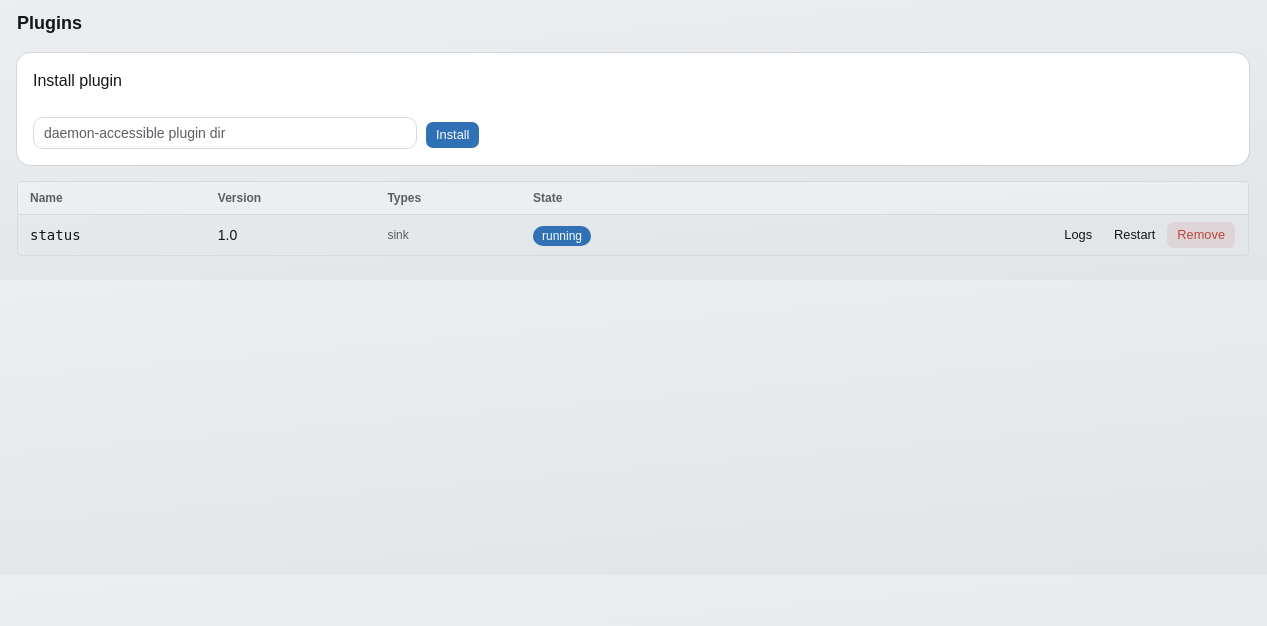
lists plugins and fetches logs on demand
Expected: the text "status" is shown, [18,214,206,255]
Click the button "Logs": (1078, 235) [1053,221,1103,249]
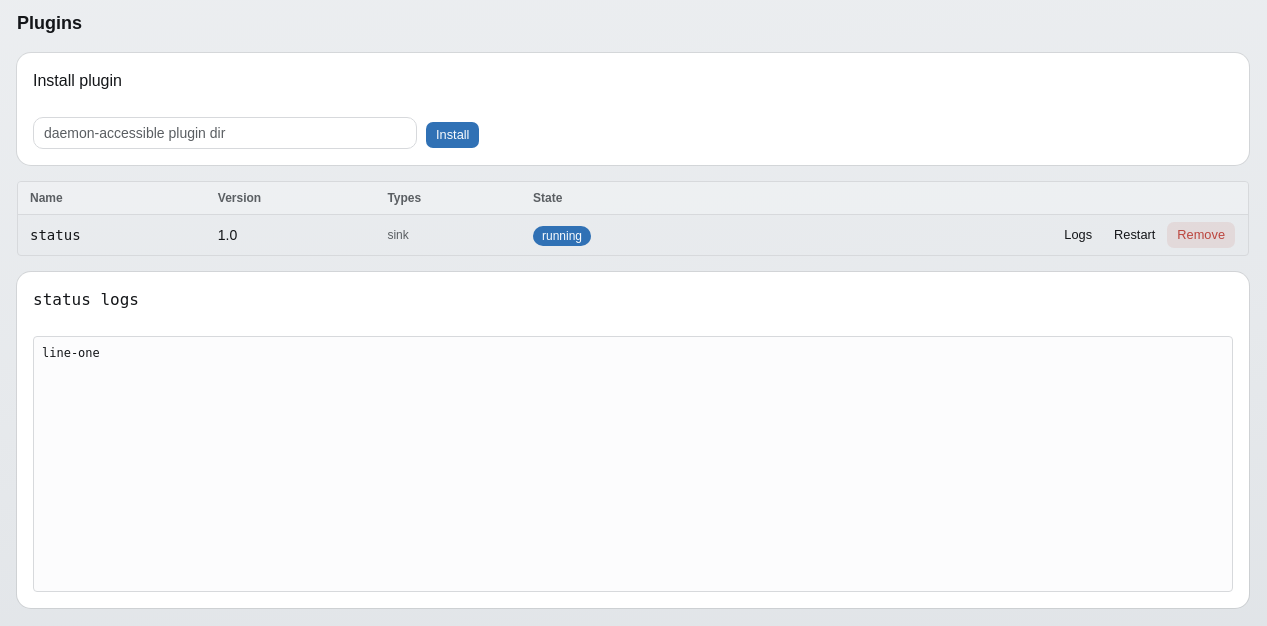
Expected: the text "line-one" is shown, [42,346,100,360]
